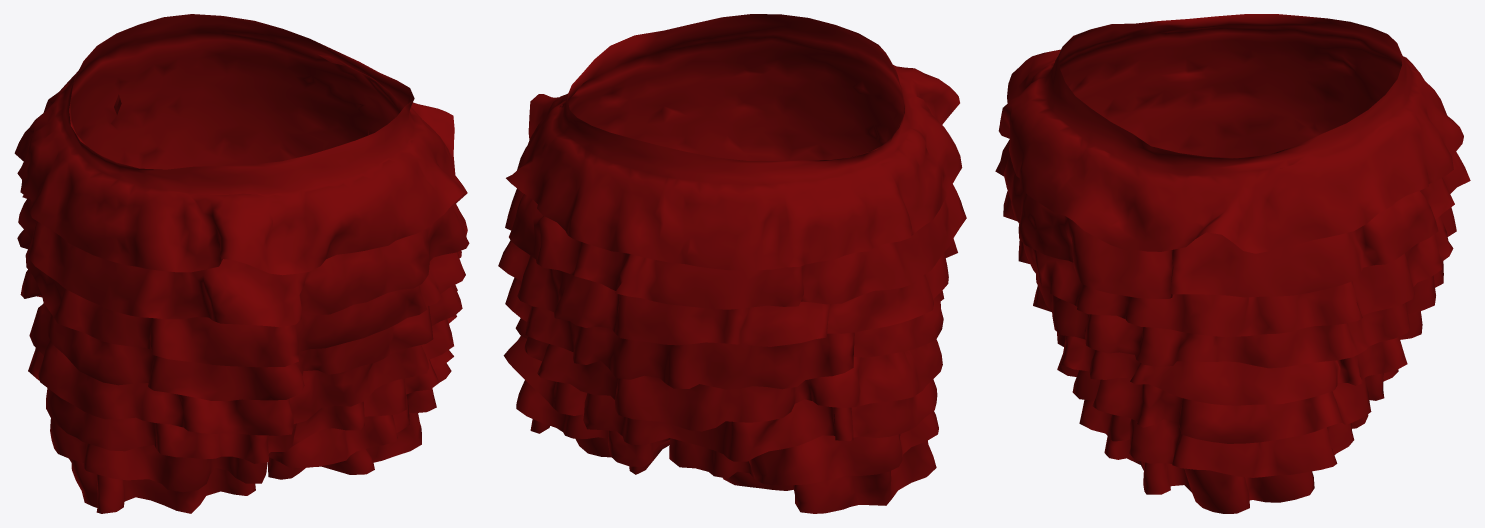
Rendered from skirt.obj.
3 renders of one model, left to right at view 1: azimuth 30°, elevation 25°; view 2: azimuth 150°, elevation 25°; view 3: azimuth 270°, elevation 25°, orthographic.
Visible parts, largest first — view 1: cake_skirt; view 2: cake_skirt; view 3: cake_skirt.
Boxes of the visible parts, bbox=[...] form: cake_skirt: bbox=[14, 14, 469, 513]; cake_skirt: bbox=[498, 14, 966, 513]; cake_skirt: bbox=[995, 14, 1470, 513].
Size of the model in its own units: 0.8043 by 0.7459 by 0.8371.
